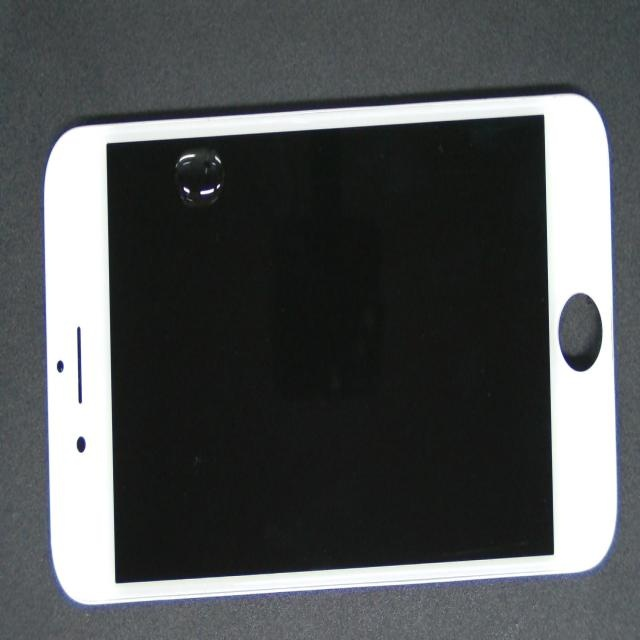oil: (138, 89, 319, 235)
